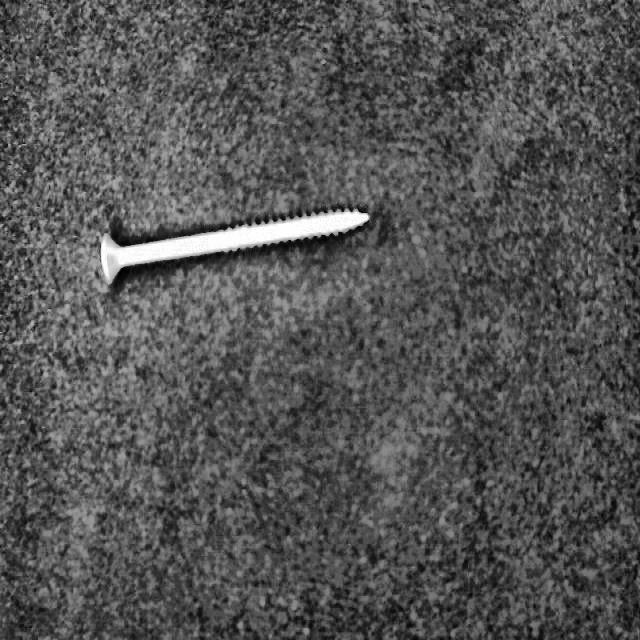Wood screw: (99, 205, 370, 284)
